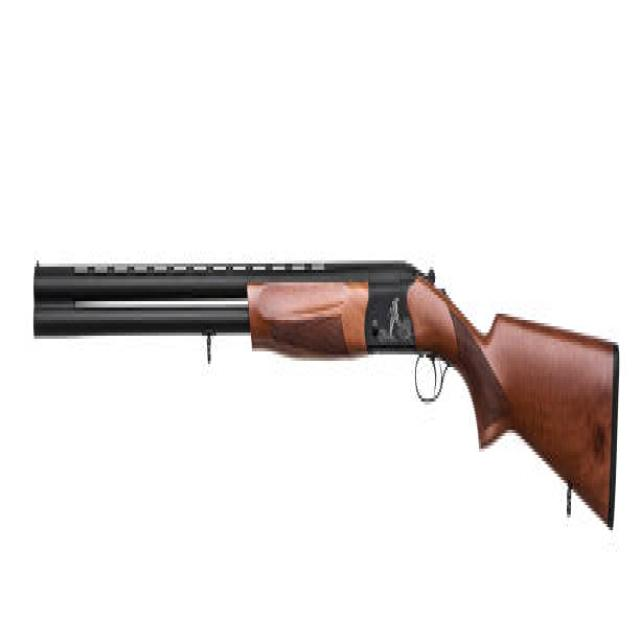rifle: (30, 238, 626, 547)
